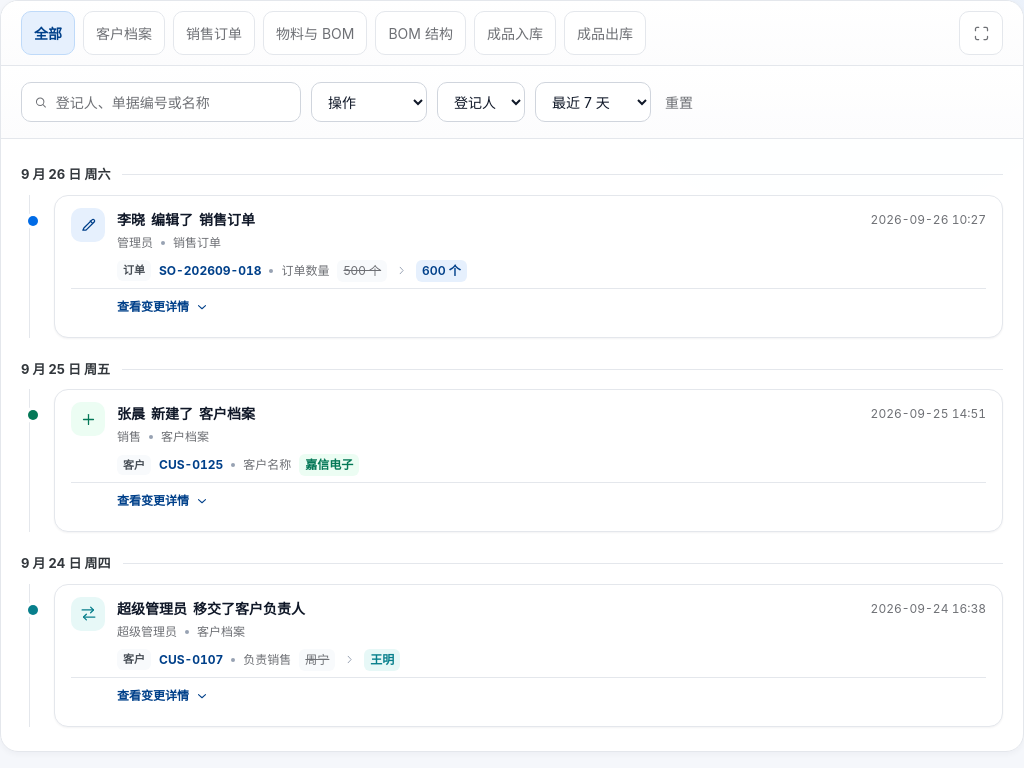
Test: 自定义范围延迟生效：from>to 报错（role=alert），合法时点应用才并入查询
Select "自定义范围" in the dropdown named "时间范围" at (593, 102), box [535,82,651,122]
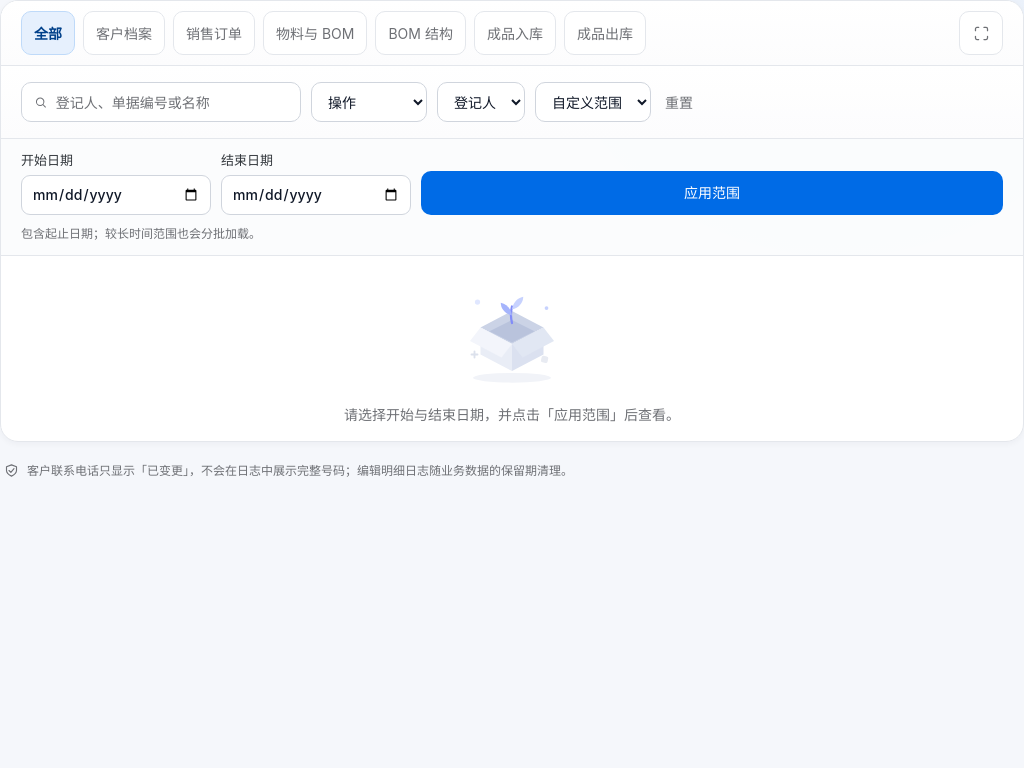
Type "2026-09-20" into the date field labelled "开始日期" at (116, 194), box [21,174,211,214]
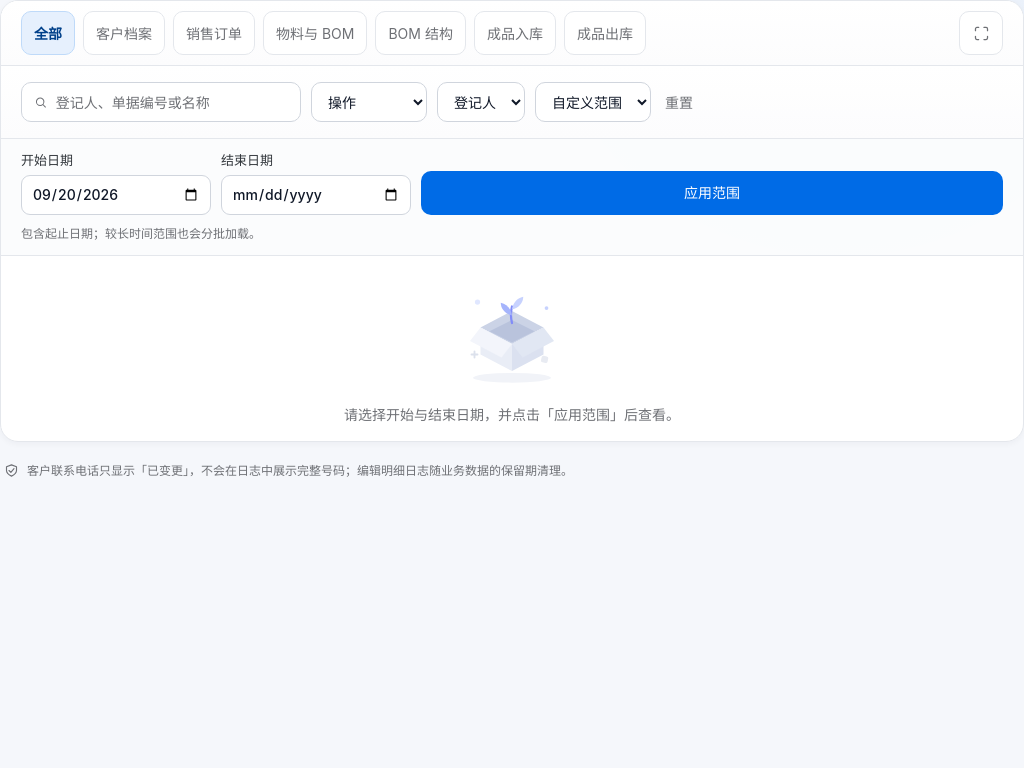
Type "2026-09-10" into the date field labelled "结束日期" at (316, 194), box [221,174,411,214]
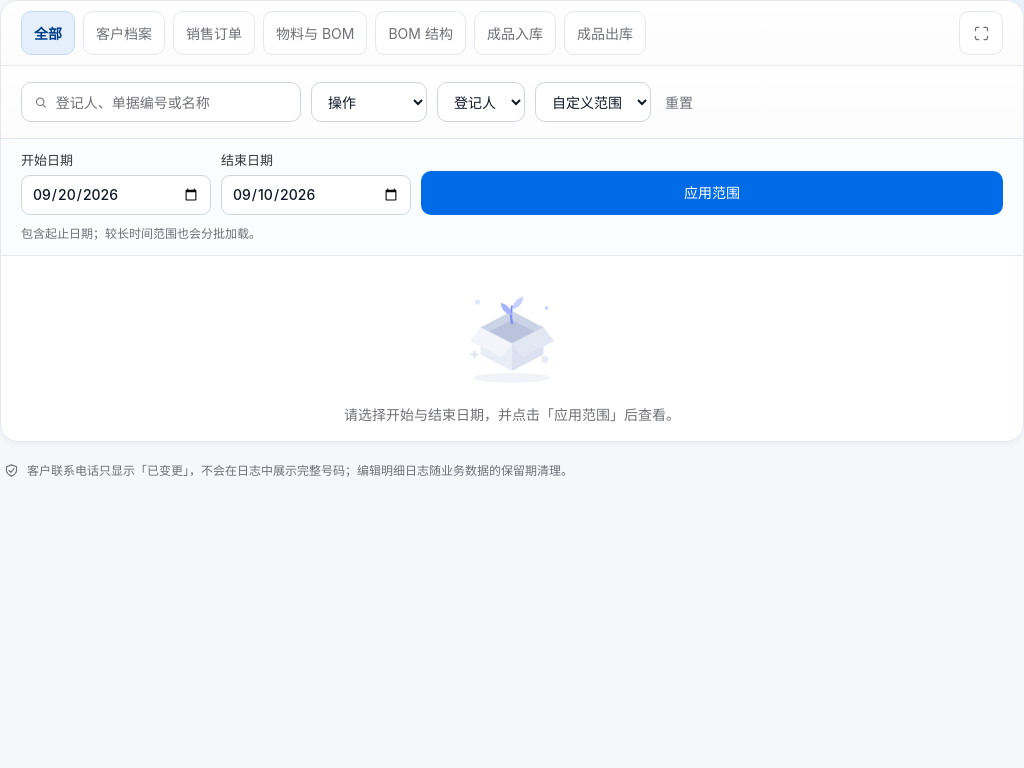
Click the button "应用范围" at (712, 192), box [421,170,1003,214]
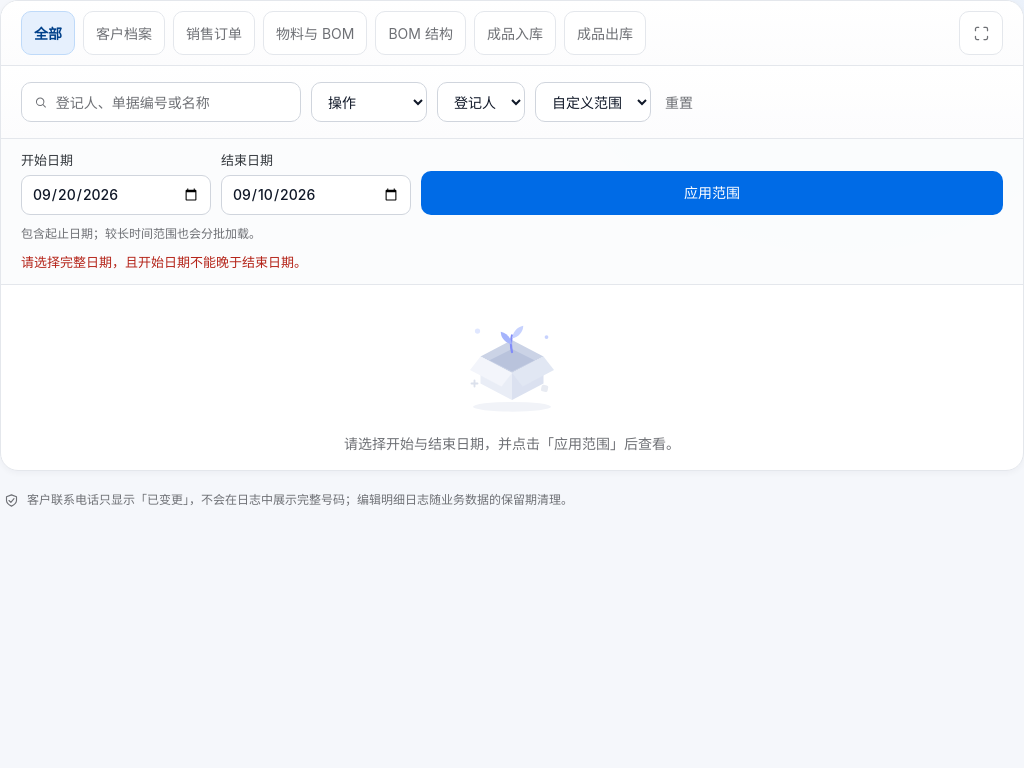
Expected: the message shows "开始日期不能晚于结束日期", [21,254,307,270]
Type "2026-09-30" into the date field labelled "结束日期" at (316, 194), box [221,174,411,214]
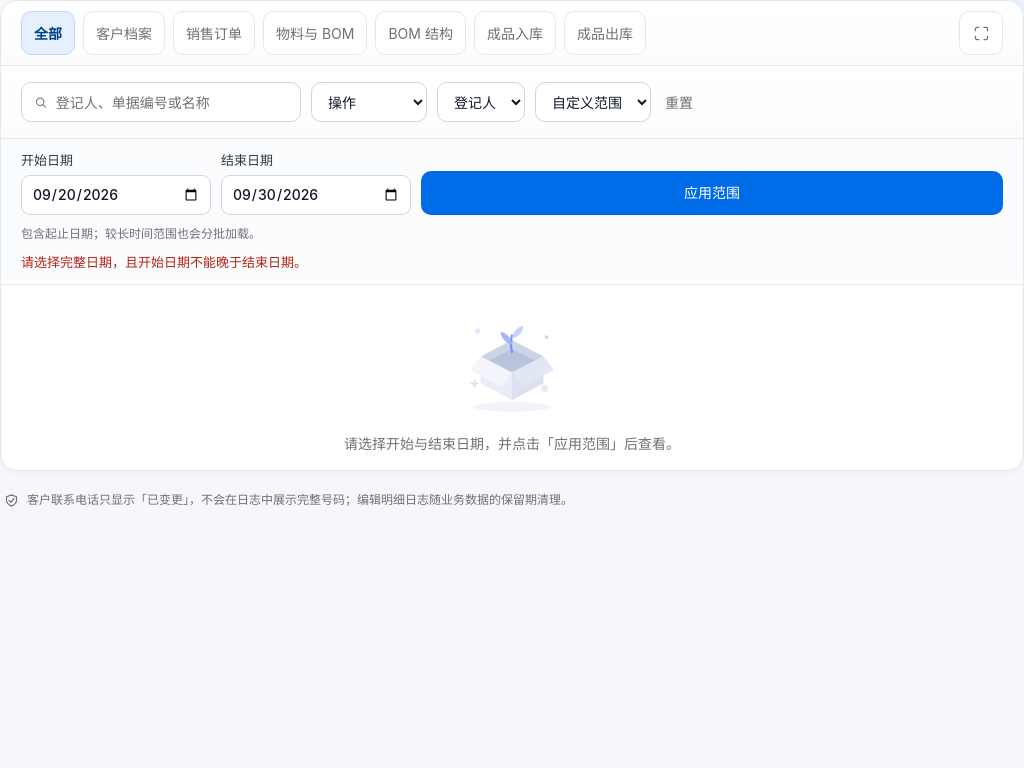
Click the button "应用范围" at (712, 192), box [421,170,1003,214]
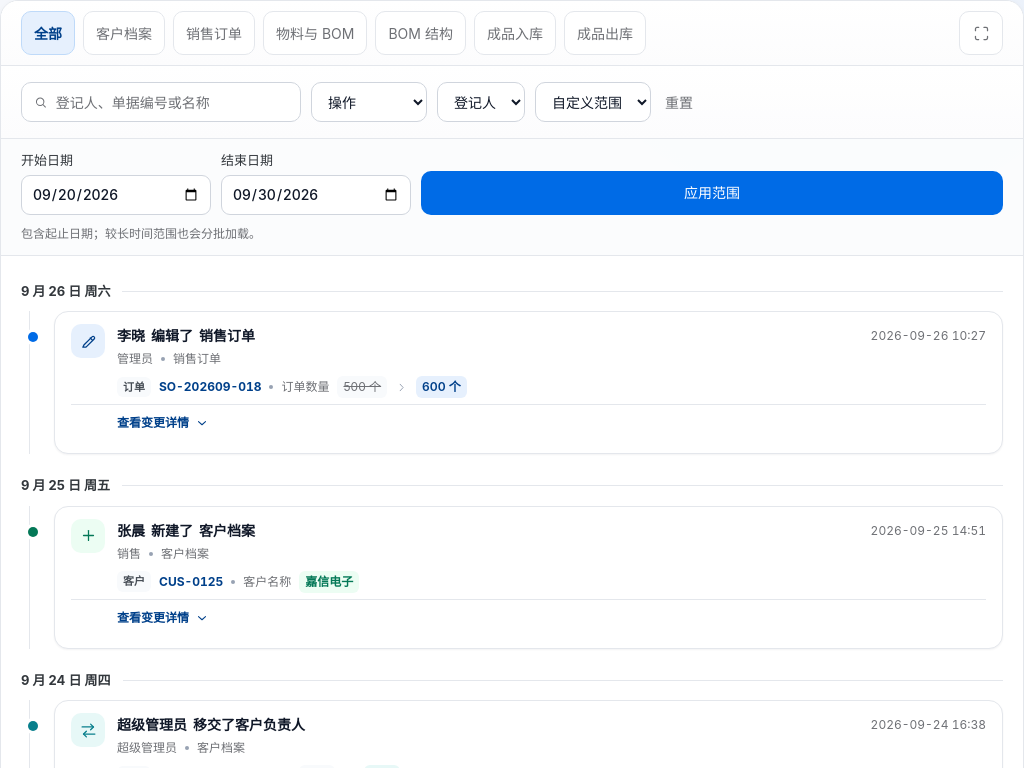
Expected: the message "请选择完整日期，且开始日期不能晚于结束日期。" is gone
